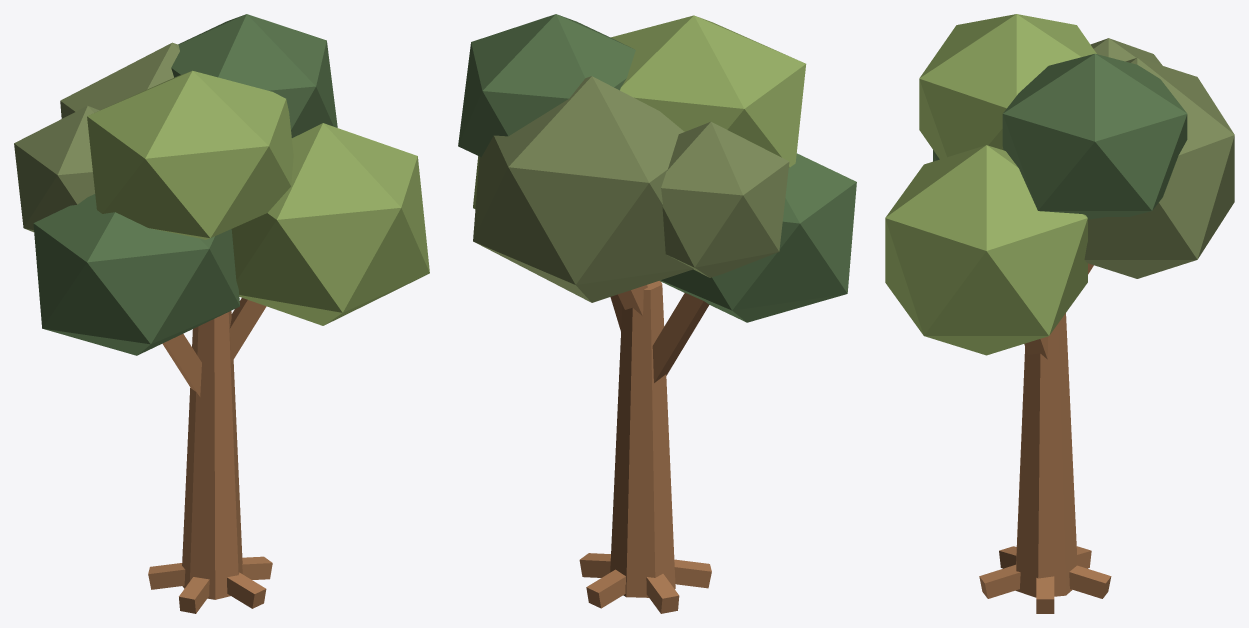
File: prop_broadleaf_tree.glb
The picture shows the model from 3 angles, left to right: view 1: azimuth 30°, elevation 25°; view 2: azimuth 150°, elevation 25°; view 3: azimuth 270°, elevation 25°; orthographic projection. The views are drawn at different scales.
Parts seen in each view (by area): view 1: prop_broadleaf_tree__Broadleaf faceted crown 1, prop_broadleaf_tree__Broadleaf faceted crown 3, prop_broadleaf_tree__Broadleaf faceted crown 0, prop_broadleaf_tree__Broadleaf trunk, prop_broadleaf_tree__Broadleaf faceted crown 4, prop_broadleaf_tree__Broadleaf faceted crown 5, prop_broadleaf_tree__Broadleaf faceted crown 2, prop_broadleaf_tree__Broadleaf branch 0, prop_broadleaf_tree__Broadleaf branch 1, prop_broadleaf_tree__Broadleaf root 4, prop_broadleaf_tree__Broadleaf root 2, prop_broadleaf_tree__Broadleaf root 3 (+1 smaller); view 2: prop_broadleaf_tree__Broadleaf faceted crown 2, prop_broadleaf_tree__Broadleaf faceted crown 3, prop_broadleaf_tree__Broadleaf faceted crown 5, prop_broadleaf_tree__Broadleaf trunk, prop_broadleaf_tree__Broadleaf faceted crown 0, prop_broadleaf_tree__Broadleaf faceted crown 4, prop_broadleaf_tree__Broadleaf branch 0, prop_broadleaf_tree__Broadleaf root 1, prop_broadleaf_tree__Broadleaf root 2, prop_broadleaf_tree__Broadleaf root 3, prop_broadleaf_tree__Broadleaf root 0; view 3: prop_broadleaf_tree__Broadleaf faceted crown 1, prop_broadleaf_tree__Broadleaf faceted crown 4, prop_broadleaf_tree__Broadleaf faceted crown 2, prop_broadleaf_tree__Broadleaf faceted crown 3, prop_broadleaf_tree__Broadleaf trunk, prop_broadleaf_tree__Broadleaf root 1, prop_broadleaf_tree__Broadleaf root 4, prop_broadleaf_tree__Broadleaf faceted crown 5, prop_broadleaf_tree__Broadleaf root 0.
Part boxes in pixels (bbox=[...]): prop_broadleaf_tree__Broadleaf faceted crown 1: bbox=[231, 123, 429, 325]; prop_broadleaf_tree__Broadleaf faceted crown 3: bbox=[87, 70, 293, 239]; prop_broadleaf_tree__Broadleaf faceted crown 0: bbox=[33, 194, 239, 355]; prop_broadleaf_tree__Broadleaf trunk: bbox=[182, 311, 242, 599]; prop_broadleaf_tree__Broadleaf faceted crown 4: bbox=[171, 14, 337, 137]; prop_broadleaf_tree__Broadleaf faceted crown 5: bbox=[14, 106, 99, 232]; prop_broadleaf_tree__Broadleaf faceted crown 2: bbox=[60, 42, 179, 118]; prop_broadleaf_tree__Broadleaf branch 0: bbox=[162, 334, 201, 396]; prop_broadleaf_tree__Broadleaf branch 1: bbox=[229, 298, 266, 362]; prop_broadleaf_tree__Broadleaf root 4: bbox=[227, 572, 266, 608]; prop_broadleaf_tree__Broadleaf root 2: bbox=[148, 563, 185, 589]; prop_broadleaf_tree__Broadleaf root 3: bbox=[179, 577, 209, 613]; prop_broadleaf_tree__Broadleaf faceted crown 2: bbox=[473, 76, 693, 302]; prop_broadleaf_tree__Broadleaf faceted crown 3: bbox=[610, 15, 806, 167]; prop_broadleaf_tree__Broadleaf faceted crown 5: bbox=[661, 122, 789, 277]; prop_broadleaf_tree__Broadleaf trunk: bbox=[610, 281, 675, 597]; prop_broadleaf_tree__Broadleaf faceted crown 0: bbox=[659, 153, 856, 322]; prop_broadleaf_tree__Broadleaf faceted crown 4: bbox=[458, 14, 635, 157]; prop_broadleaf_tree__Broadleaf branch 0: bbox=[652, 293, 709, 382]; prop_broadleaf_tree__Broadleaf root 1: bbox=[586, 569, 625, 608]; prop_broadleaf_tree__Broadleaf root 2: bbox=[646, 574, 679, 613]; prop_broadleaf_tree__Broadleaf root 3: bbox=[674, 559, 711, 588]; prop_broadleaf_tree__Broadleaf root 0: bbox=[579, 553, 610, 577]; prop_broadleaf_tree__Broadleaf faceted crown 1: bbox=[885, 145, 1087, 355]; prop_broadleaf_tree__Broadleaf faceted crown 4: bbox=[1002, 53, 1187, 219]; prop_broadleaf_tree__Broadleaf faceted crown 2: bbox=[1084, 57, 1234, 278]; prop_broadleaf_tree__Broadleaf faceted crown 3: bbox=[919, 14, 1096, 159]; prop_broadleaf_tree__Broadleaf trunk: bbox=[1015, 313, 1077, 597]; prop_broadleaf_tree__Broadleaf root 1: bbox=[1069, 565, 1111, 598]; prop_broadleaf_tree__Broadleaf root 4: bbox=[979, 564, 1020, 598]; prop_broadleaf_tree__Broadleaf faceted crown 5: bbox=[1090, 38, 1162, 65]; prop_broadleaf_tree__Broadleaf root 0: bbox=[1036, 576, 1054, 613].
Size of the model in its own units: 2.84 by 4.12 by 2.32.
